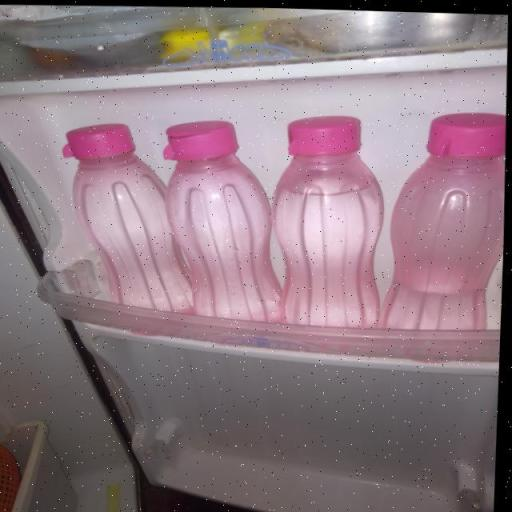plastic: (380, 110, 506, 328), (63, 123, 197, 313), (163, 120, 285, 322), (272, 114, 386, 326)
